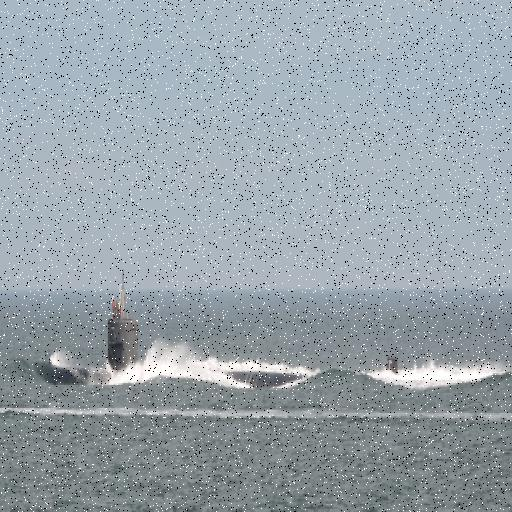submarine: (73, 237, 180, 406)
